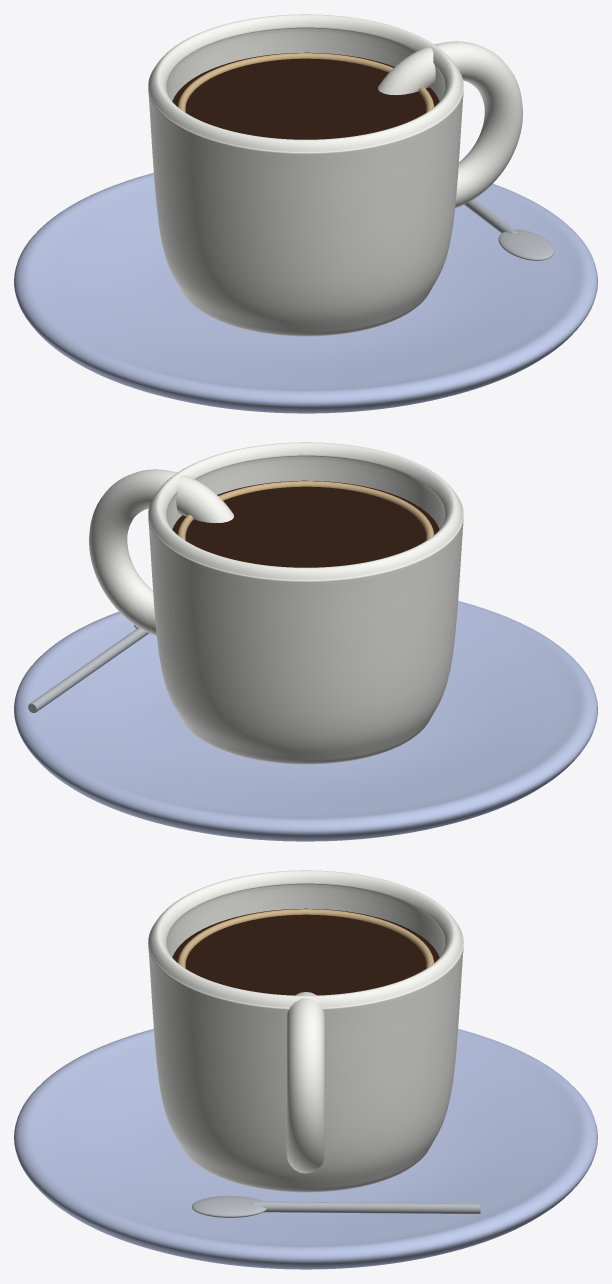
The model's file is espresso-cup.glb.
The picture shows the model from 3 angles, top to bottom: view 1: azimuth 30°, elevation 25°; view 2: azimuth 150°, elevation 25°; view 3: azimuth 270°, elevation 25°; orthographic projection.
Visible parts, largest first — view 1: sculpted-surface, hollow-vessel-with-rolled-lip, hollow-porcelain-cup-/-coffee-and-crema-005, hollow-porcelain-cup-/-coffee-and-crema-003, hollow-porcelain-cup-/-coffee-and-crema-006, spoon-007, spoon-008; view 2: sculpted-surface, hollow-vessel-with-rolled-lip, hollow-porcelain-cup-/-coffee-and-crema-005, hollow-porcelain-cup-/-coffee-and-crema-003, hollow-porcelain-cup-/-coffee-and-crema-006, spoon-008; view 3: sculpted-surface, hollow-vessel-with-rolled-lip, hollow-porcelain-cup-/-coffee-and-crema-005, hollow-porcelain-cup-/-coffee-and-crema-003, spoon-008, hollow-porcelain-cup-/-coffee-and-crema-006, spoon-007.
Part boxes in pixels (left/top/right/bottom): sculpted-surface: left=14, top=173, right=597, bottom=413; hollow-vessel-with-rolled-lip: left=148, top=14, right=463, bottom=336; hollow-porcelain-cup-/-coffee-and-crema-005: left=172, top=52, right=439, bottom=139; hollow-porcelain-cup-/-coffee-and-crema-003: left=378, top=41, right=522, bottom=207; hollow-porcelain-cup-/-coffee-and-crema-006: left=177, top=53, right=434, bottom=112; spoon-007: left=498, top=229, right=554, bottom=260; spoon-008: left=464, top=199, right=517, bottom=233; sculpted-surface: left=14, top=601, right=597, bottom=841; hollow-vessel-with-rolled-lip: left=148, top=442, right=463, bottom=764; hollow-porcelain-cup-/-coffee-and-crema-005: left=172, top=480, right=439, bottom=567; hollow-porcelain-cup-/-coffee-and-crema-003: left=89, top=469, right=233, bottom=635; hollow-porcelain-cup-/-coffee-and-crema-006: left=177, top=481, right=434, bottom=540; spoon-008: left=28, top=627, right=148, bottom=712; sculpted-surface: left=14, top=1029, right=597, bottom=1269; hollow-vessel-with-rolled-lip: left=148, top=870, right=463, bottom=1192; hollow-porcelain-cup-/-coffee-and-crema-005: left=172, top=908, right=439, bottom=995; hollow-porcelain-cup-/-coffee-and-crema-003: left=286, top=992, right=325, bottom=1173; spoon-008: left=252, top=1201, right=480, bottom=1213; hollow-porcelain-cup-/-coffee-and-crema-006: left=177, top=909, right=434, bottom=968; spoon-007: left=192, top=1195, right=266, bottom=1217.
Size of the model in its own units: 2 by 0.8758 by 2.
